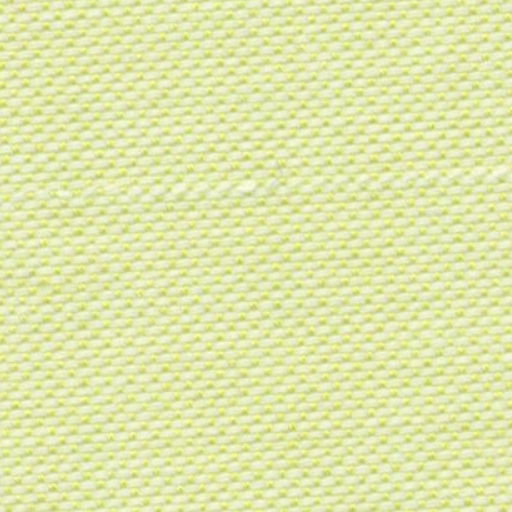TuoSha: (118, 158, 496, 222)
